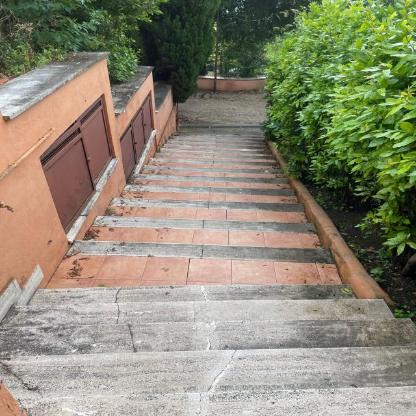stair: (69, 106, 335, 416)
